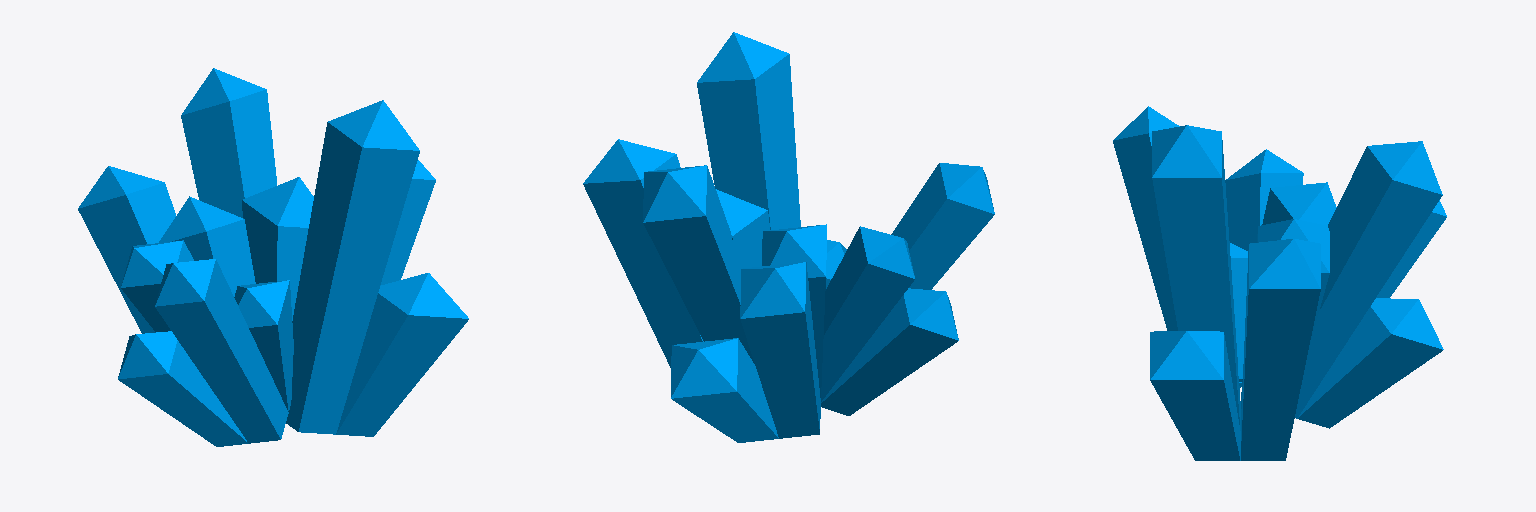
File: crystal.obj
The picture shows the model from 3 angles: view 1: azimuth 30°, elevation 25°; view 2: azimuth 150°, elevation 25°; view 3: azimuth 270°, elevation 25°; orthographic projection.
Visible parts, largest first — view 1: Plane_Plane.001; view 2: Plane_Plane.001; view 3: Plane_Plane.001.
Part boxes in pixels (x1,y1,x2,y2): Plane_Plane.001: (78,68,468,446); Plane_Plane.001: (583,32,994,442); Plane_Plane.001: (1113,106,1446,460).
Size of the model in its own units: 3.55 by 3.51 by 3.13.